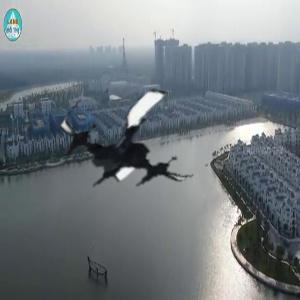drone: (63, 67, 210, 214)
